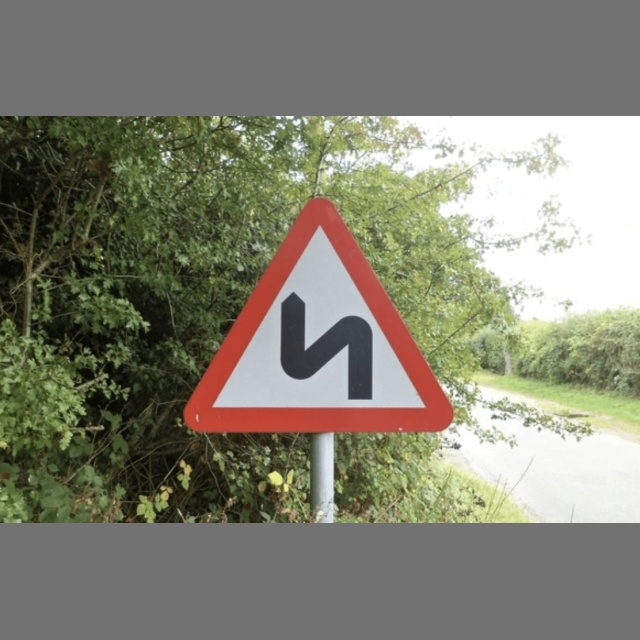Left_Reverse_Bend: (378, 143, 537, 288)
